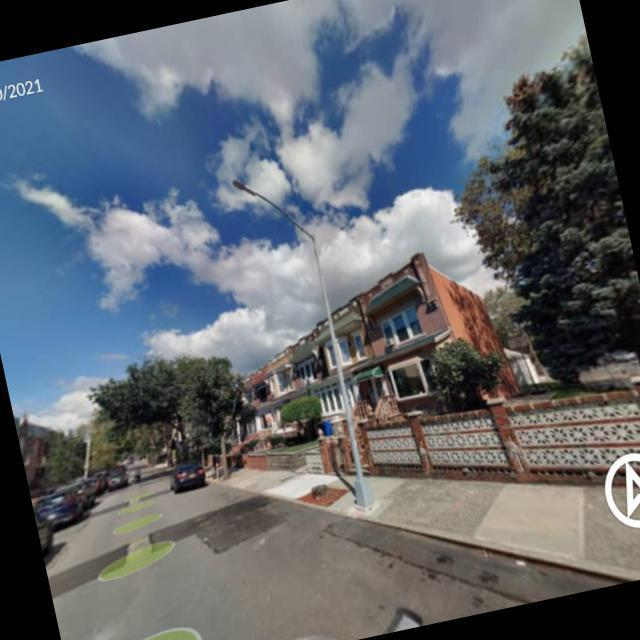off: (190, 123, 380, 274)
